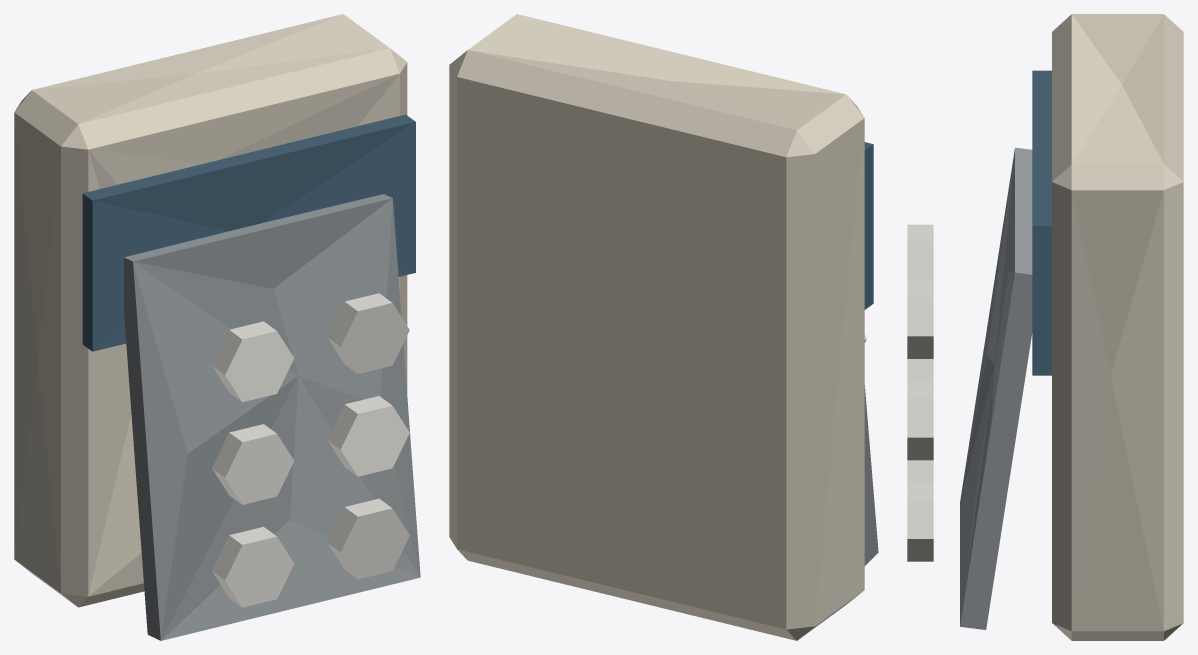
Rendered from painkiller_tabletki_idle.glb.
3 renders of one model, left to right at view 1: azimuth 30°, elevation 25°; view 2: azimuth 150°, elevation 25°; view 3: azimuth 270°, elevation 25°, orthographic. The views are drawn at different scales.
Visible parts, largest first — view 1: painkiller_tabletki_idle; view 2: painkiller_tabletki_idle; view 3: painkiller_tabletki_idle.
Boxes of the visible parts, <box> form: painkiller_tabletki_idle: <box>14,14,420,640</box>; painkiller_tabletki_idle: <box>449,14,878,640</box>; painkiller_tabletki_idle: <box>907,14,1183,640</box>.
Size of the model in its own units: 0.06 by 0.0803 by 0.042.
1 material, 1 textured.
